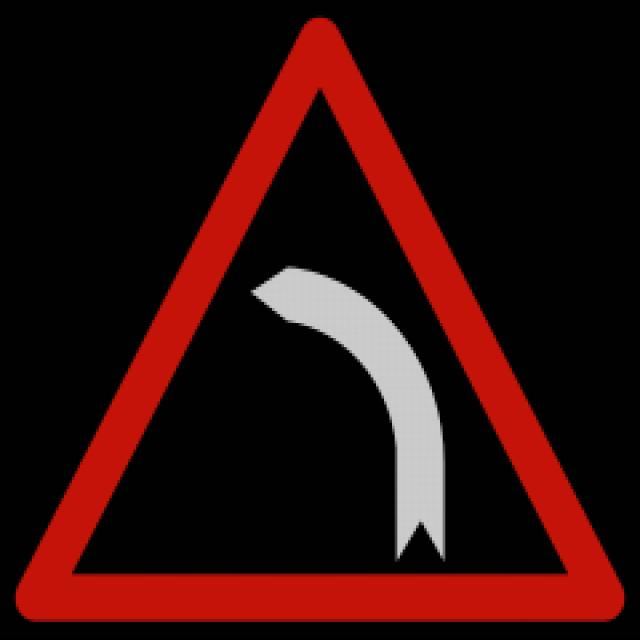turn_danger: (5, 9, 640, 637)
